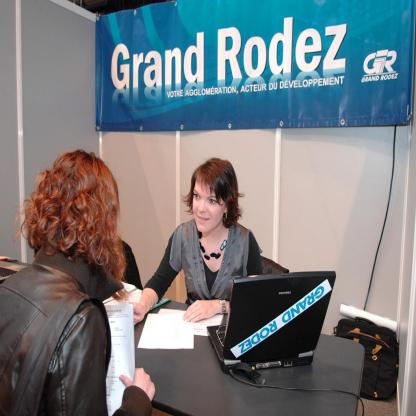board: (207, 271, 337, 369), (0, 261, 27, 282)
